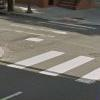Crosswalk: (5, 31, 100, 87)
